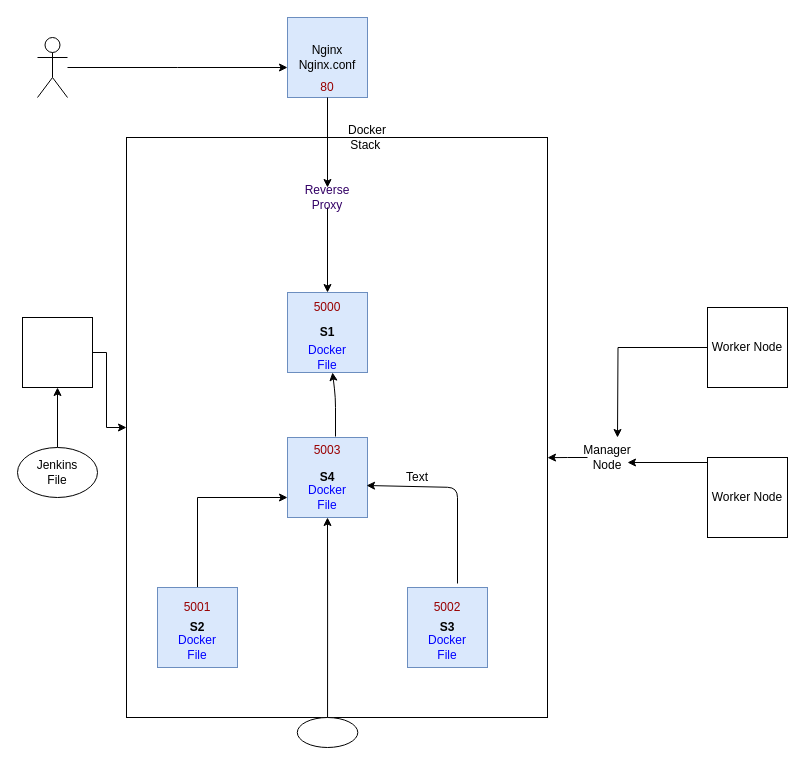
Image size: 805x765. Some labels were removed from this diagram. Each missing label, with the centre of its shape:
Docker Compose: (x=57, y=352)
Sql: (x=327, y=732)
Users: (x=52, y=67)
